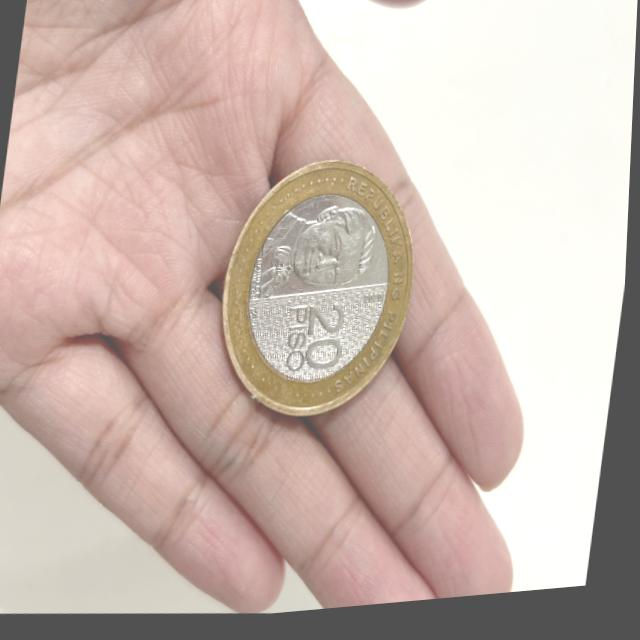20_New_Front: (275, 292, 358, 392)
